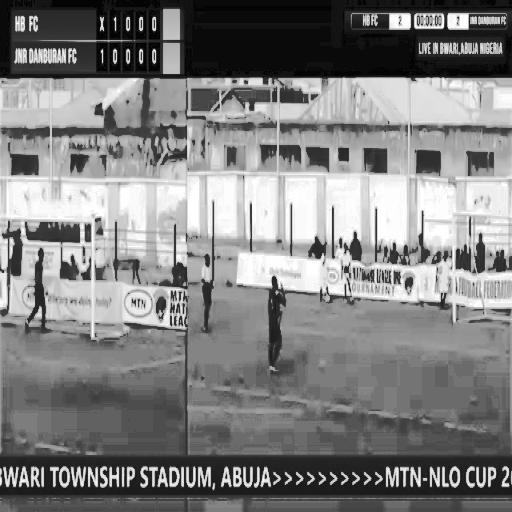distract: (318, 235, 333, 312)
keeper1: (25, 243, 58, 330)
referee: (200, 240, 219, 334)
team2: (260, 261, 292, 383)
